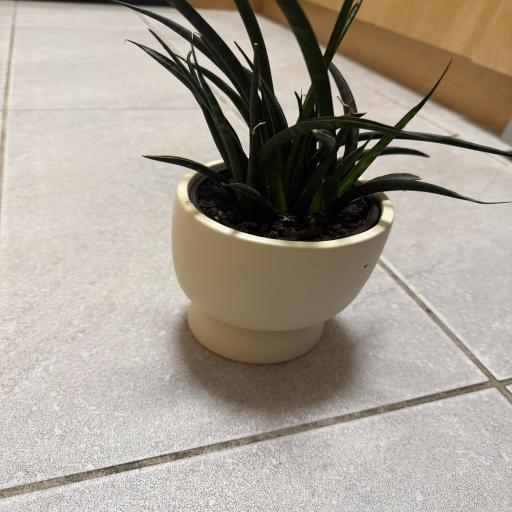Plant Pot: (168, 164, 393, 364)
